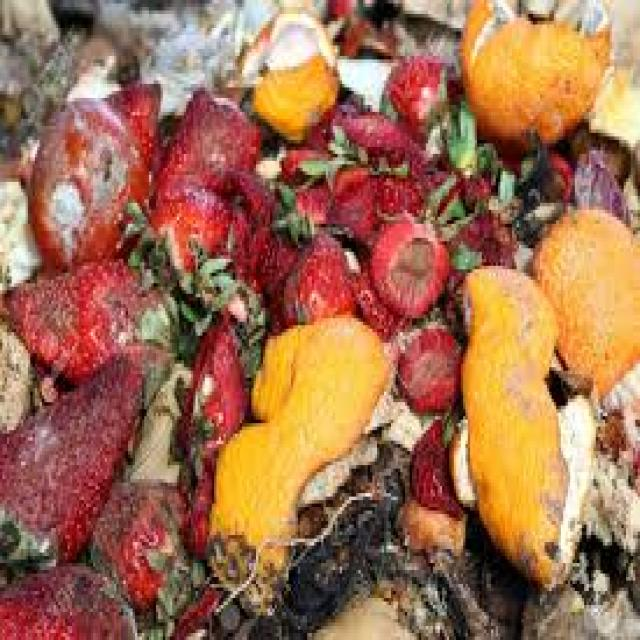organic waste: (0, 0, 638, 637), (209, 315, 384, 612), (447, 259, 598, 587), (284, 440, 470, 636), (0, 353, 142, 581), (247, 448, 386, 636), (26, 94, 149, 266), (528, 203, 638, 395), (460, 0, 607, 143), (0, 256, 147, 382), (84, 476, 198, 636), (219, 0, 335, 140), (86, 479, 184, 612), (149, 171, 268, 273), (152, 80, 258, 192), (0, 552, 133, 636), (431, 511, 516, 636), (179, 297, 247, 451), (384, 556, 512, 637), (180, 308, 252, 451), (112, 357, 188, 486), (223, 161, 298, 287), (317, 158, 421, 242), (368, 203, 442, 315), (270, 224, 351, 322), (338, 105, 438, 182), (516, 574, 638, 636), (440, 206, 512, 308), (582, 451, 638, 570), (391, 315, 461, 409), (594, 360, 638, 490), (379, 52, 452, 130), (442, 102, 496, 200), (102, 77, 160, 168), (410, 413, 460, 514), (184, 252, 249, 329), (0, 172, 44, 284), (172, 448, 214, 563), (21, 28, 74, 119), (151, 563, 219, 633), (0, 49, 37, 171), (296, 112, 360, 182), (570, 542, 631, 612), (573, 140, 626, 220), (584, 66, 638, 144), (116, 196, 168, 276), (321, 0, 400, 52), (391, 497, 463, 552), (566, 119, 626, 178), (174, 454, 210, 552), (274, 115, 330, 178), (349, 262, 396, 336), (0, 322, 33, 426), (166, 577, 217, 637), (149, 59, 200, 119), (272, 178, 310, 245), (142, 273, 175, 350), (528, 143, 572, 200), (288, 168, 332, 224), (614, 140, 638, 238), (235, 283, 261, 371), (240, 602, 300, 636), (607, 0, 637, 66), (66, 59, 116, 98), (612, 535, 638, 609), (328, 91, 370, 136), (510, 196, 563, 227), (110, 45, 144, 91), (512, 130, 542, 178), (207, 591, 238, 637), (442, 35, 461, 108), (382, 329, 400, 388), (491, 161, 514, 206), (30, 367, 61, 399)
